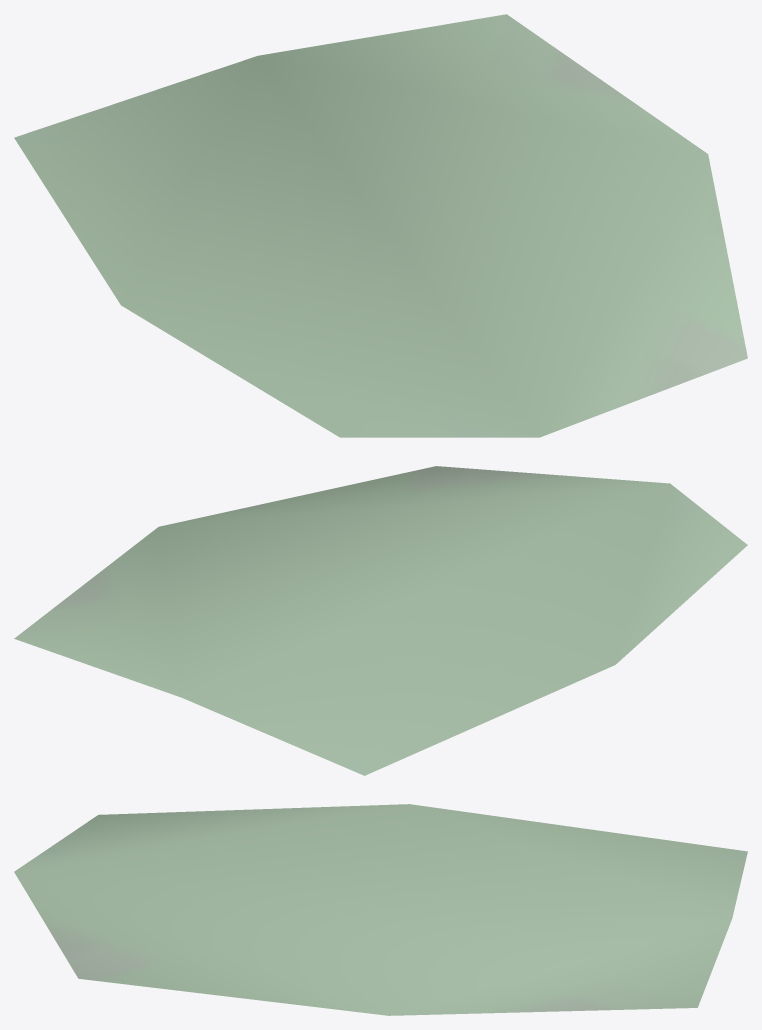
The model's file is TROLLHOLE02_HOLECAP212.fbx.
3 renders of one model, top to bottom at view 1: azimuth 30°, elevation 25°; view 2: azimuth 150°, elevation 25°; view 3: azimuth 270°, elevation 25°, orthographic. The views are drawn at different scales.
Visible parts, largest first — view 1: TROLLHOLE02_HOLECAP212; view 2: TROLLHOLE02_HOLECAP212; view 3: TROLLHOLE02_HOLECAP212.
Boxes of the visible parts, <box> form: TROLLHOLE02_HOLECAP212: <box>14,14,747,437</box>; TROLLHOLE02_HOLECAP212: <box>14,466,747,775</box>; TROLLHOLE02_HOLECAP212: <box>14,804,747,1015</box>.
Size of the model in its own units: 11152 by 618 by 15148.
1 material, 1 textured.
